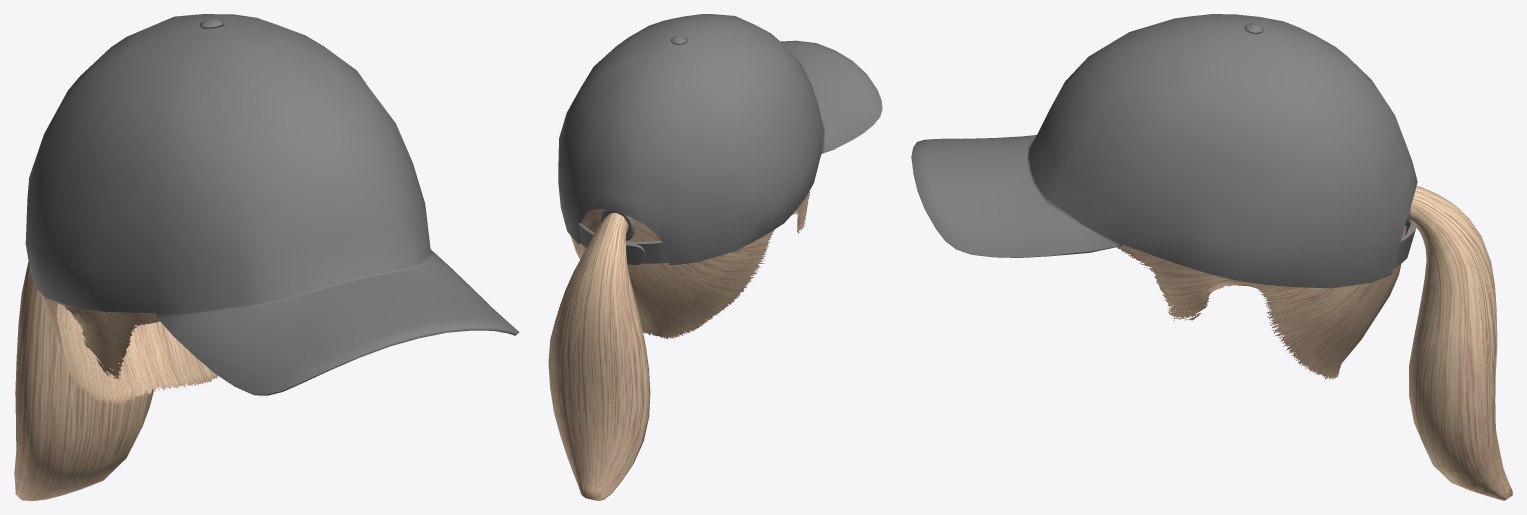
The model's file is BaseballHat_Hair_01.obj.
The picture shows the model from 3 angles, left to right: view 1: azimuth 30°, elevation 25°; view 2: azimuth 150°, elevation 25°; view 3: azimuth 270°, elevation 25°; orthographic projection. The views are drawn at different scales.
Size of the model in its own units: 16.97 by 28.63 by 32.45.
